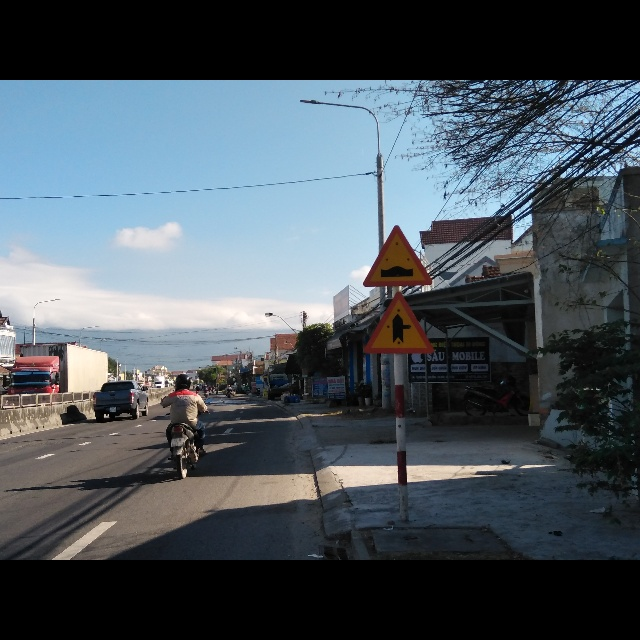Giao nhau với đường không ưu tiên: (361, 292, 437, 356)
Đường không bằng phẳng: (364, 224, 434, 290)
